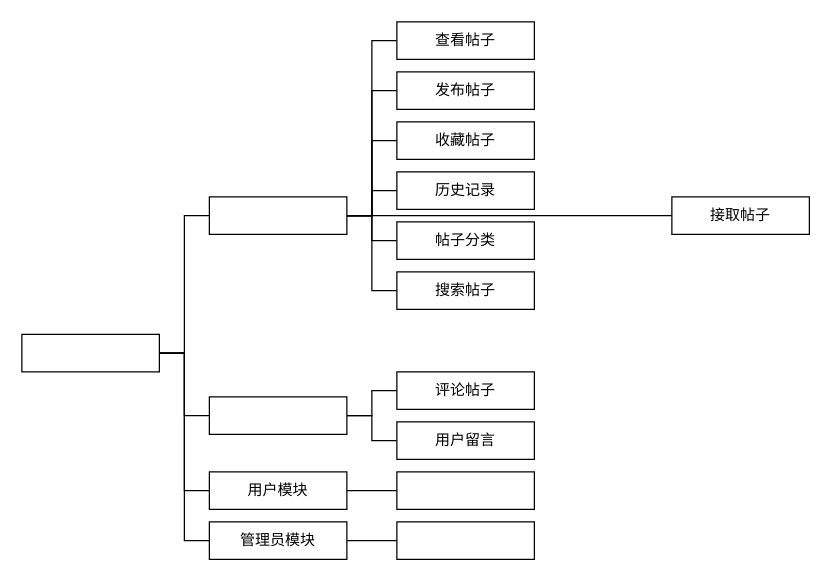
This 831x581 diagram has some shape labels left out. Each missing label, with the centre of its shape:
"交观表白墙" belongs at (90,352).
"信息修改" belongs at (465,490).
"帖子模块" belongs at (277,215).
"消息模块" belongs at (277,415).
"管理表" belongs at (465,540).
